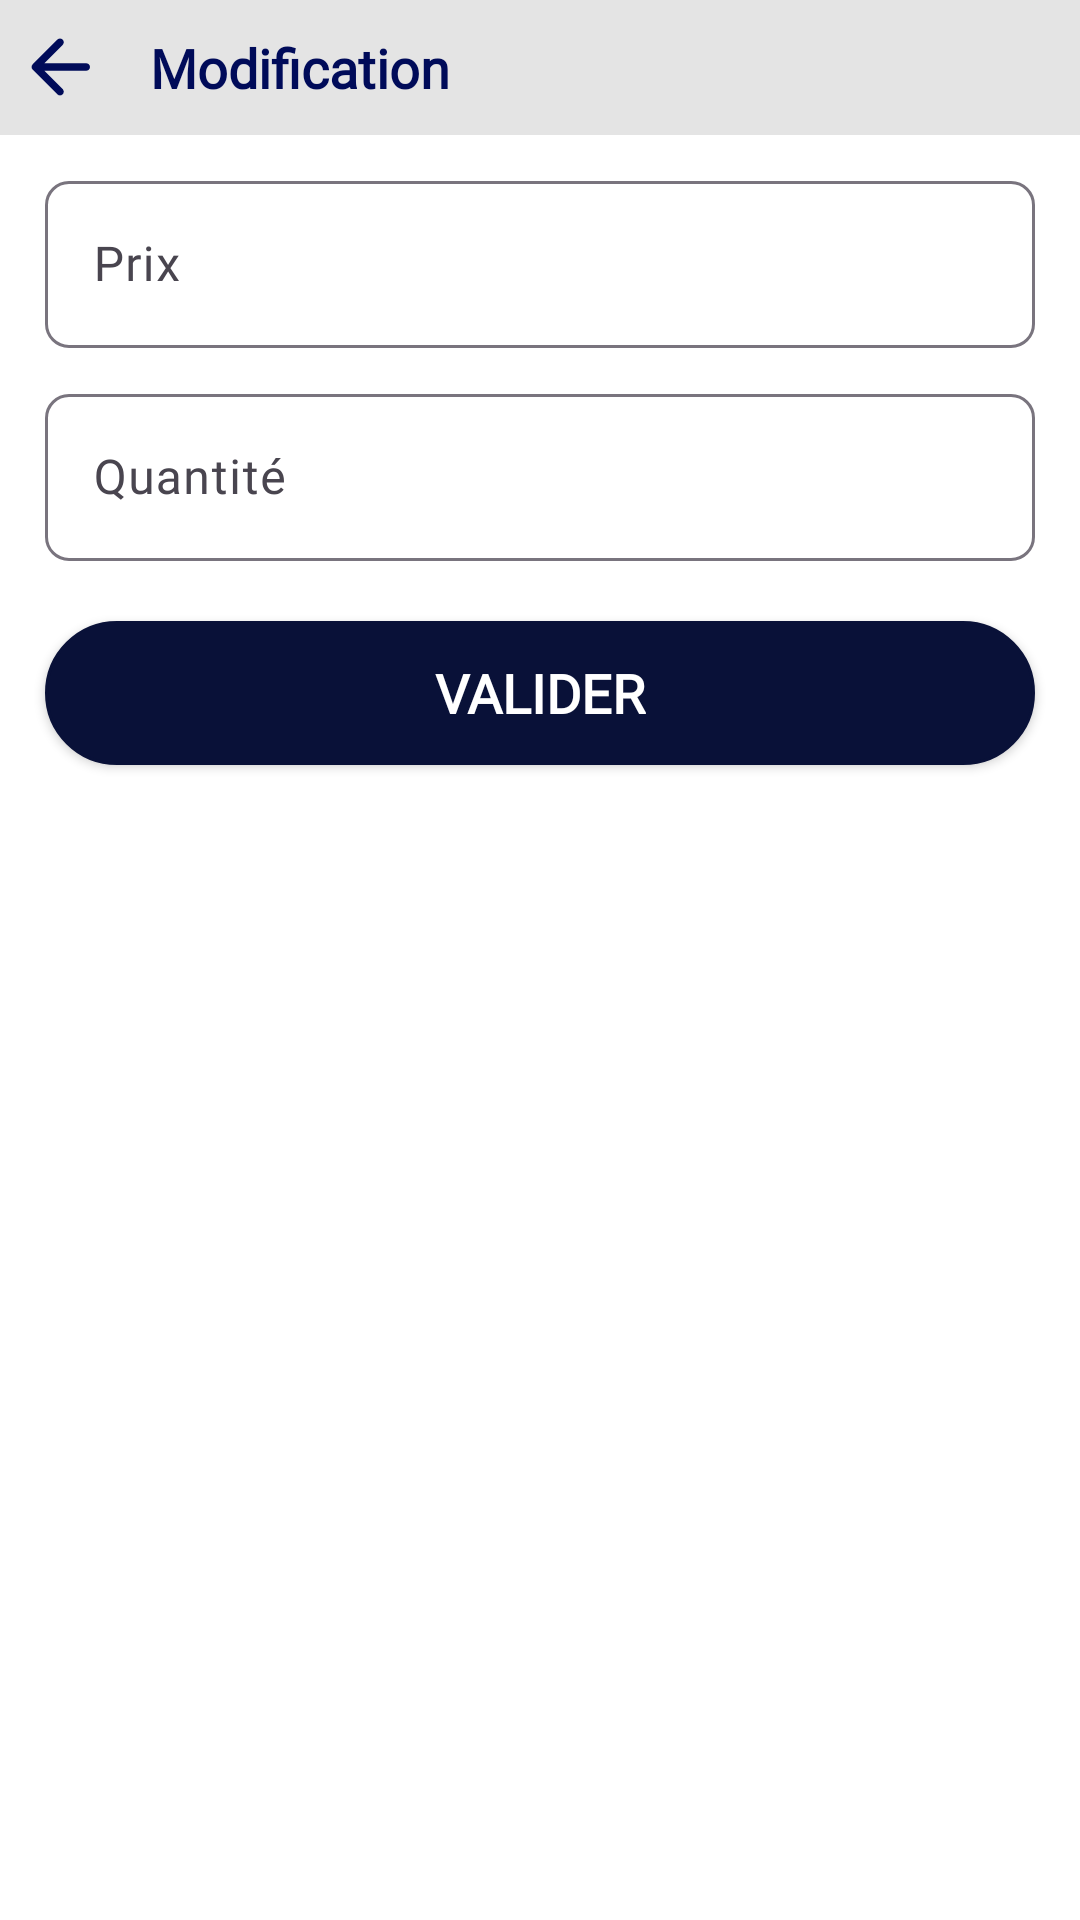

Locate icon controls on the screen. Image size 1080*1920, boxes as bbox=(x1, y1, x2, y2).
back: bbox=(31, 38, 90, 96)
